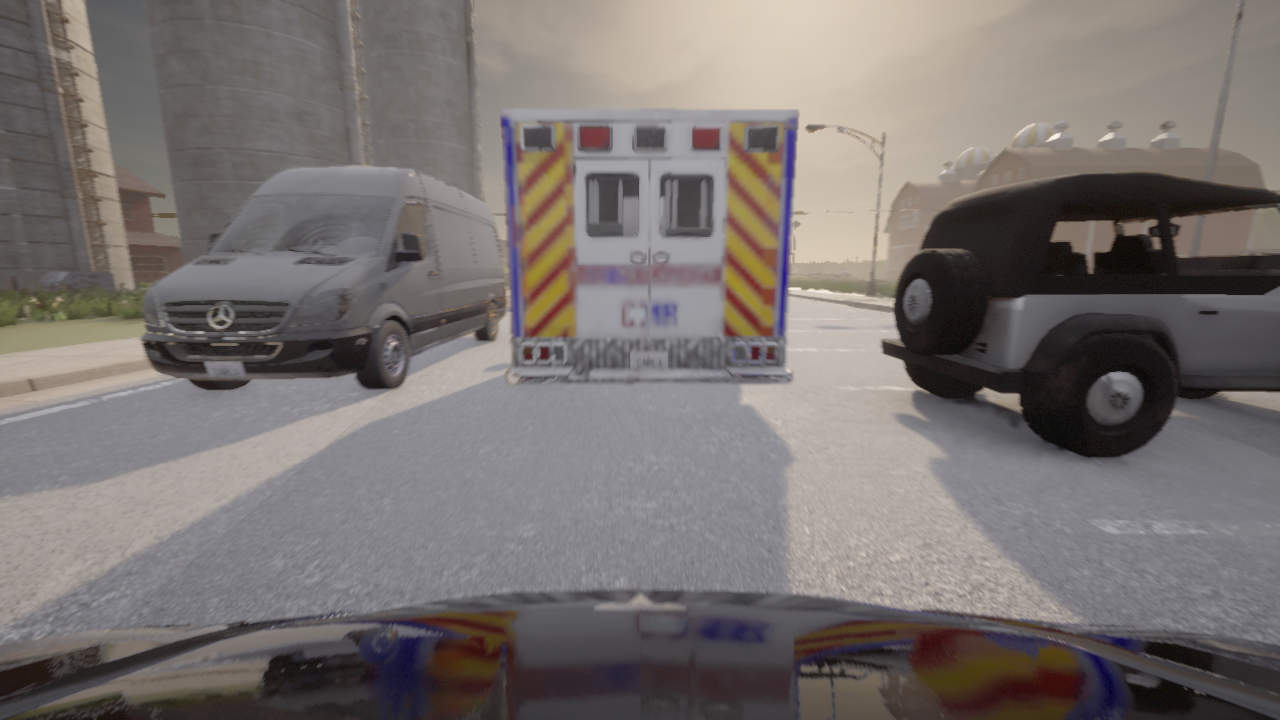cyclist: (0, 588, 1279, 719), (881, 170, 1279, 457), (140, 166, 506, 390), (500, 109, 798, 384)
